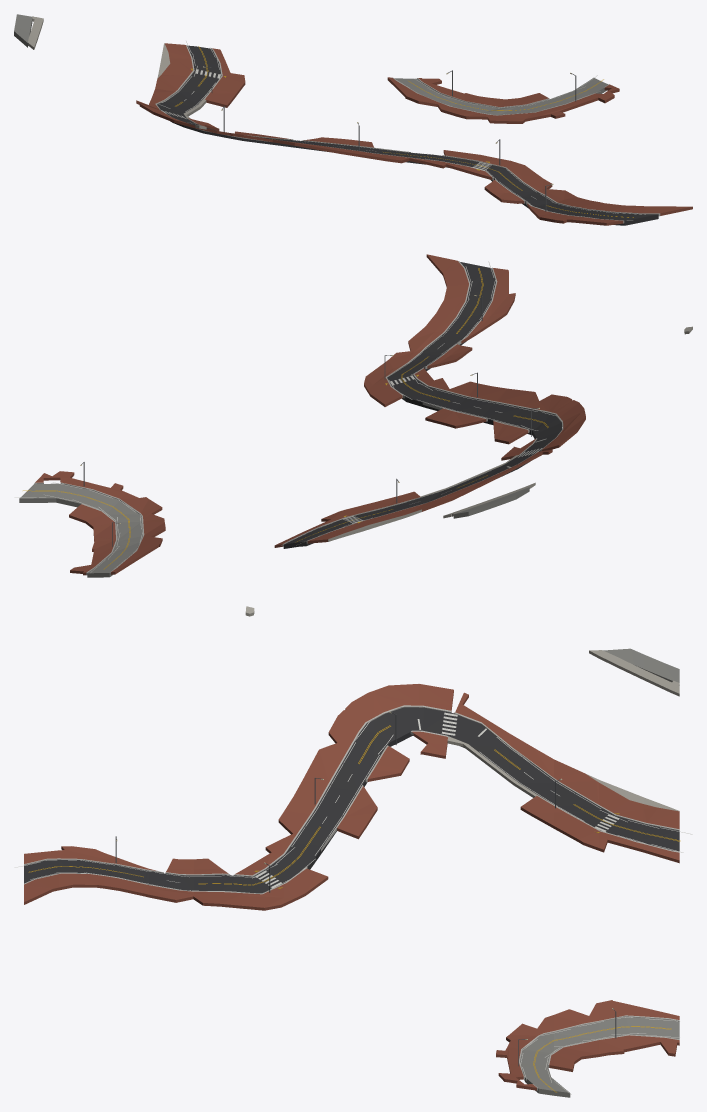
The model's file is 18-218889-118950.36d1deef.glb.
The picture shows the model from 3 angles, top to bottom: view 1: azimuth 30°, elevation 25°; view 2: azimuth 150°, elevation 25°; view 3: azimuth 270°, elevation 25°; orthographic projection. The views are drawn at different scales.
Size of the model in its own units: 148 by 55.01 by 151.
